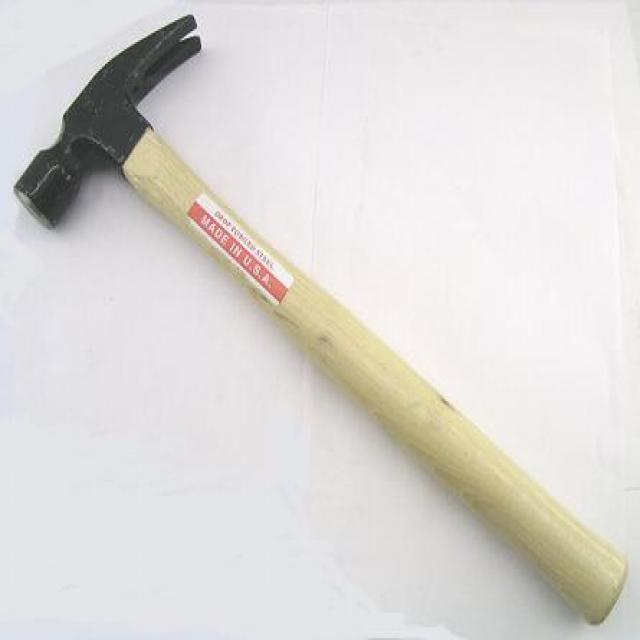hammer: (5, 11, 635, 637)
